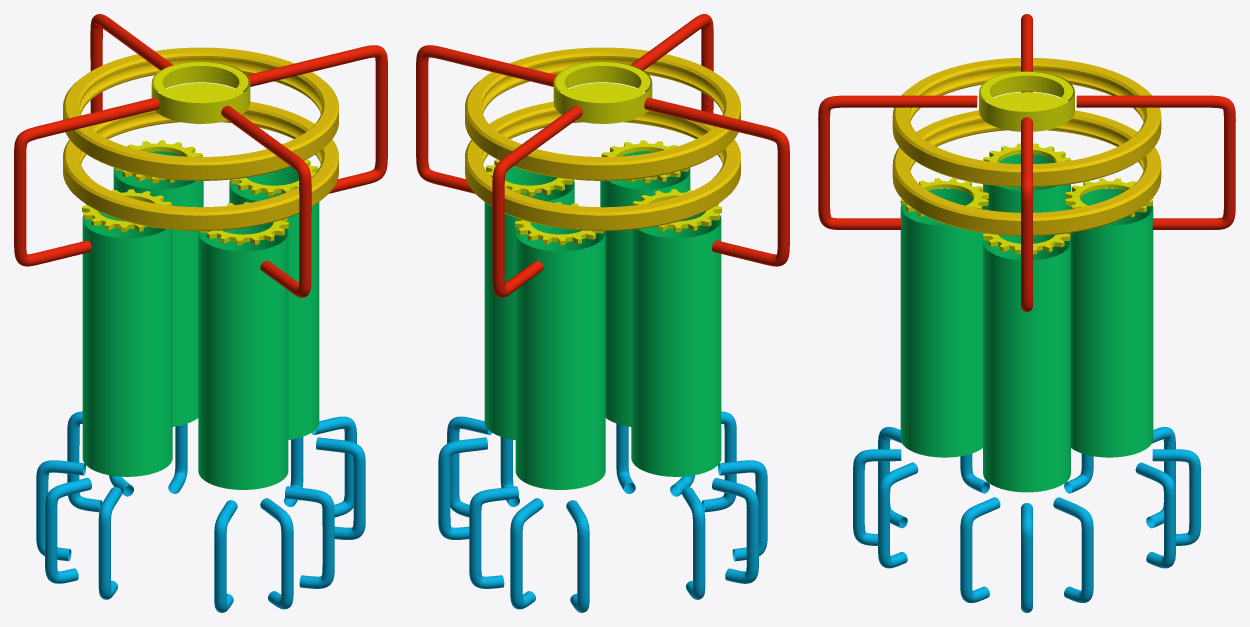
The model's file is The Glass Bits (1).fbx.
The picture shows the model from 3 angles, left to right: view 1: azimuth 30°, elevation 25°; view 2: azimuth 150°, elevation 25°; view 3: azimuth 270°, elevation 25°; orthographic projection. The views are drawn at different scales.
Visible parts, largest first — view 1: SmartCombine_2; view 2: SmartCombine_2; view 3: SmartCombine_2.
Boxes of the visible parts, x1,y1,x2,y2 form: SmartCombine_2: [14, 14, 387, 612]; SmartCombine_2: [416, 14, 789, 612]; SmartCombine_2: [818, 14, 1235, 612].
Bounding box in the file's own units: 470 × 564 × 470.
